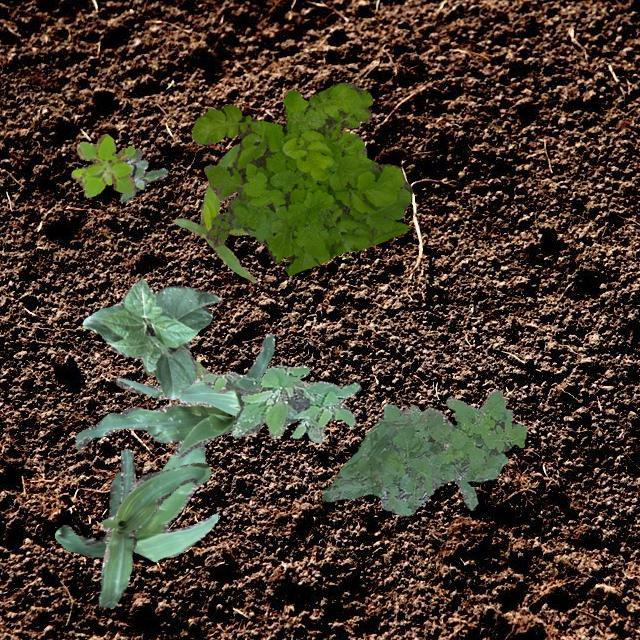crop: (74, 332, 274, 457), (53, 444, 217, 560), (98, 448, 210, 606), (81, 278, 220, 398), (172, 142, 255, 280), (142, 360, 206, 380)
weed: (190, 82, 412, 274), (322, 390, 526, 514), (200, 364, 360, 442), (70, 132, 134, 198), (120, 148, 167, 200), (204, 210, 264, 246)
